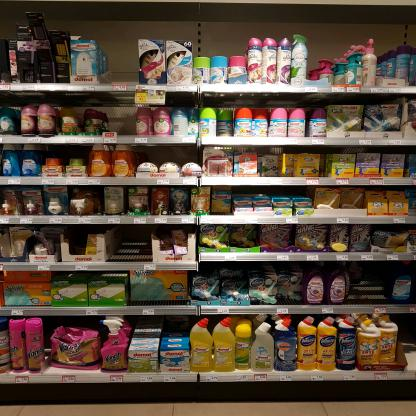Void: (106, 40, 136, 82), (358, 261, 386, 300), (138, 146, 198, 164), (117, 229, 146, 262), (398, 315, 415, 371), (137, 316, 189, 333), (196, 40, 245, 56), (113, 102, 136, 134), (65, 232, 83, 255)
